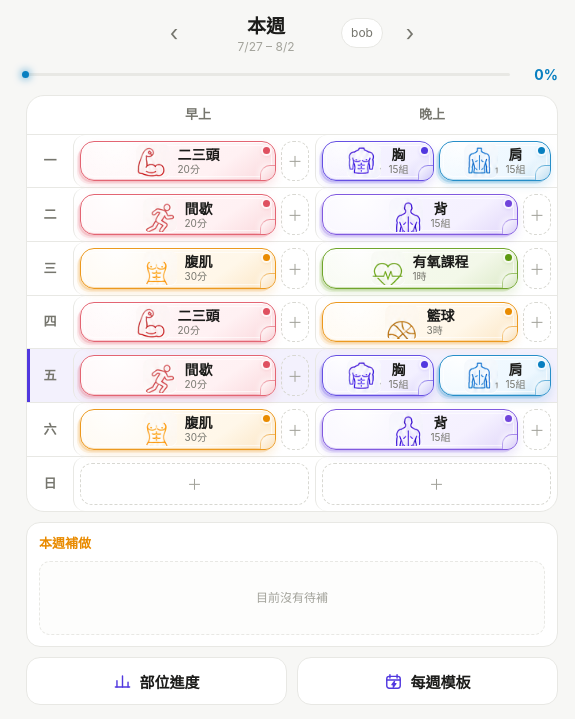
Test case: App — 選使用者 › 換人會回到選人畫面，並忘掉記住的帳號
The width and height of the screenshot is (575, 719).
expect the text "早上" is shown: met, box [185,106,211,122]
Click the button titled "換人" at (362, 32), box [341,18,383,48]
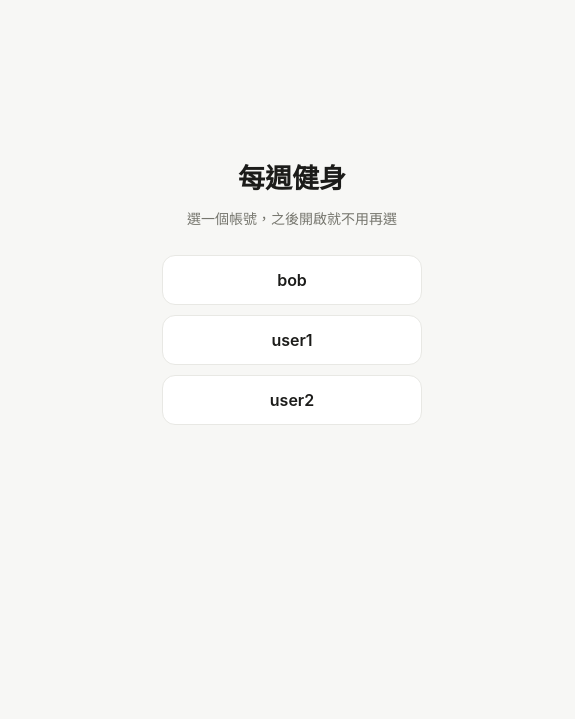
expect the text "選一個帳號，之後開啟就不用再選" is shown: met, box [187,208,397,228]
